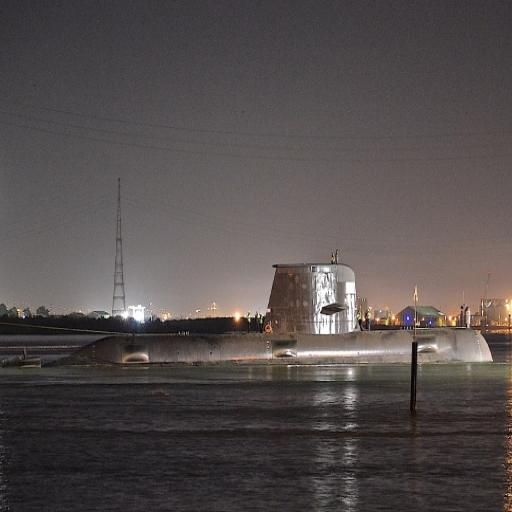submarine: (2, 259, 498, 364)
